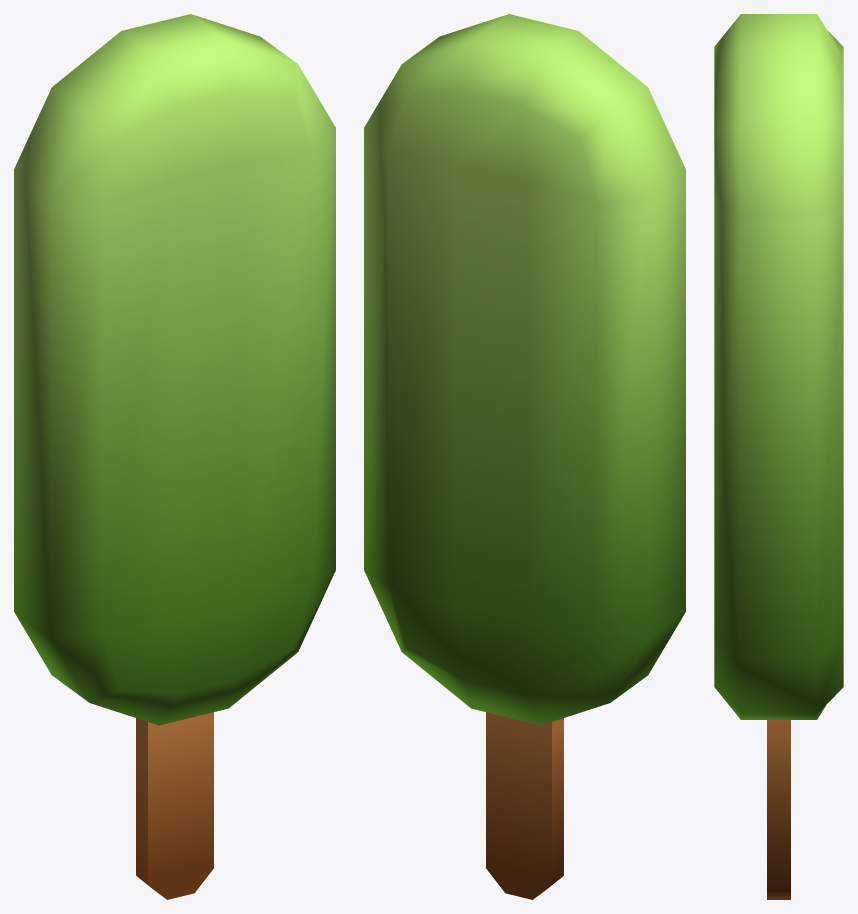
File: m_Popsicle05.fbx
3 views of the same model, side by side, from view 1: azimuth 30°, elevation 25°; view 2: azimuth 150°, elevation 25°; view 3: azimuth 270°, elevation 25° (orthographic).
Visible parts, largest first — view 1: m_Popsicle05; view 2: m_Popsicle05; view 3: m_Popsicle05.
Boxes of the visible parts, x1,y1,x2,y2 form: m_Popsicle05: (14,14,335,899); m_Popsicle05: (364,14,685,899); m_Popsicle05: (714,14,843,899).
Bounding box in the file's own units: 7.98 × 22.99 × 3.12.
